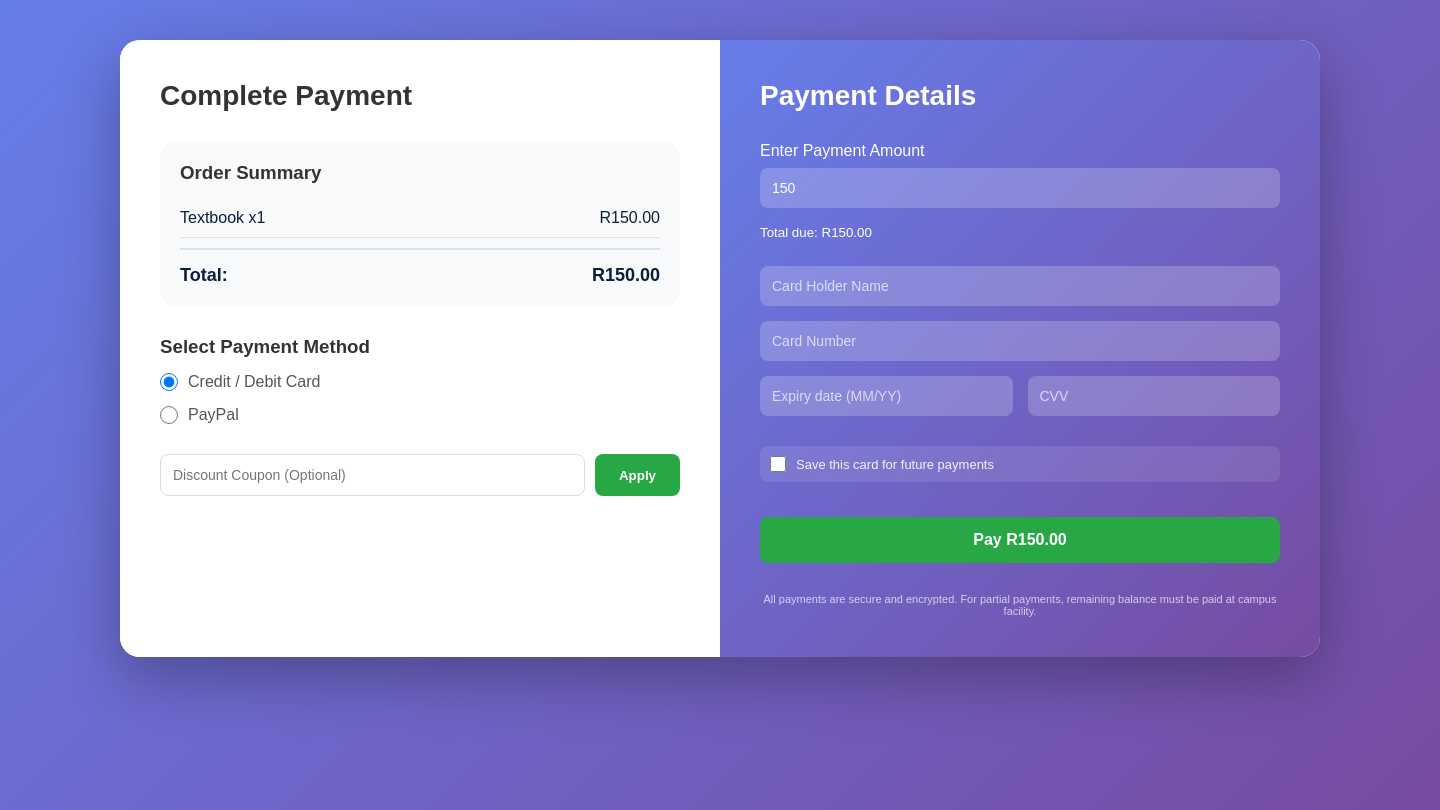
Test: PaymentForm Component Coverage Suite › handles paypal gateway redirection routines smoothly on selection update toggles
Click the radio button labelled "PayPal" at {"x": 169, "y": 415}, box [160, 406, 178, 424]
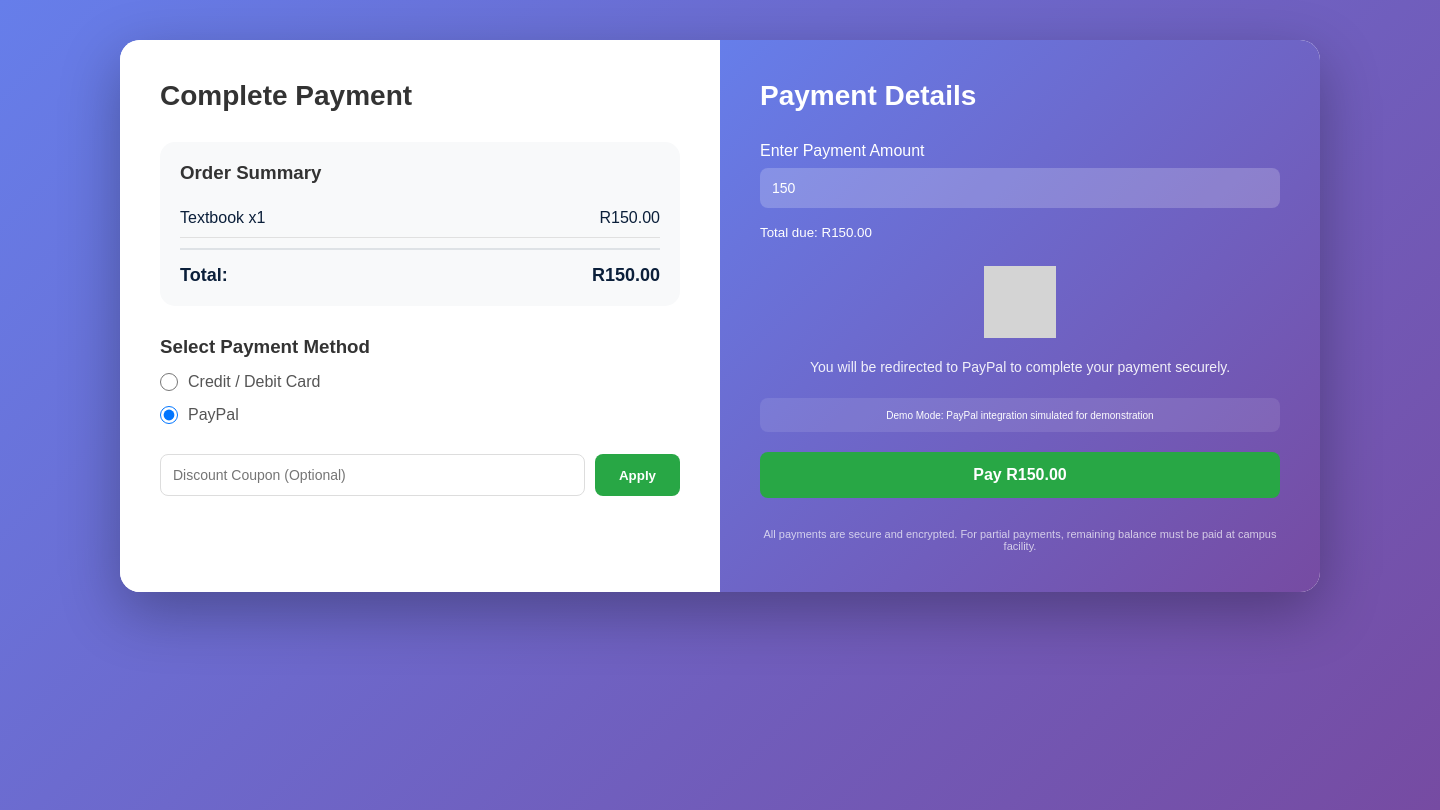
Expected: the text "You will be redirected to PayPal to complete your payment securely" is shown, [810, 359, 1230, 375]
